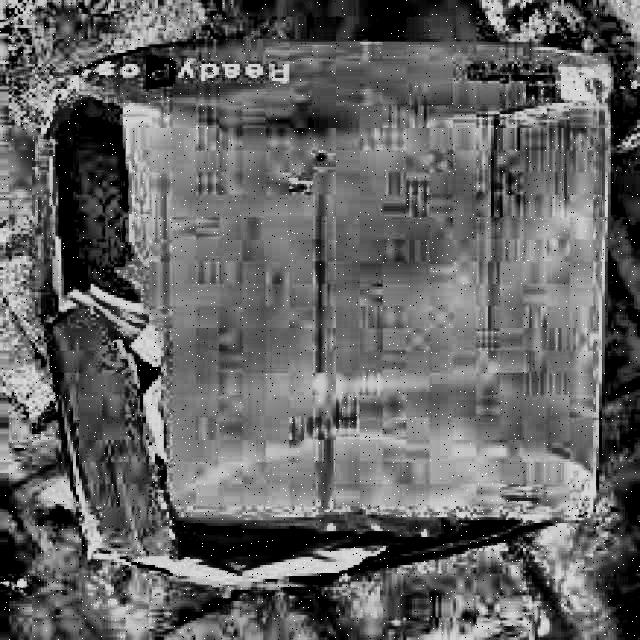box: (46, 29, 624, 562)
hole: (47, 62, 187, 386), (125, 496, 529, 584)
